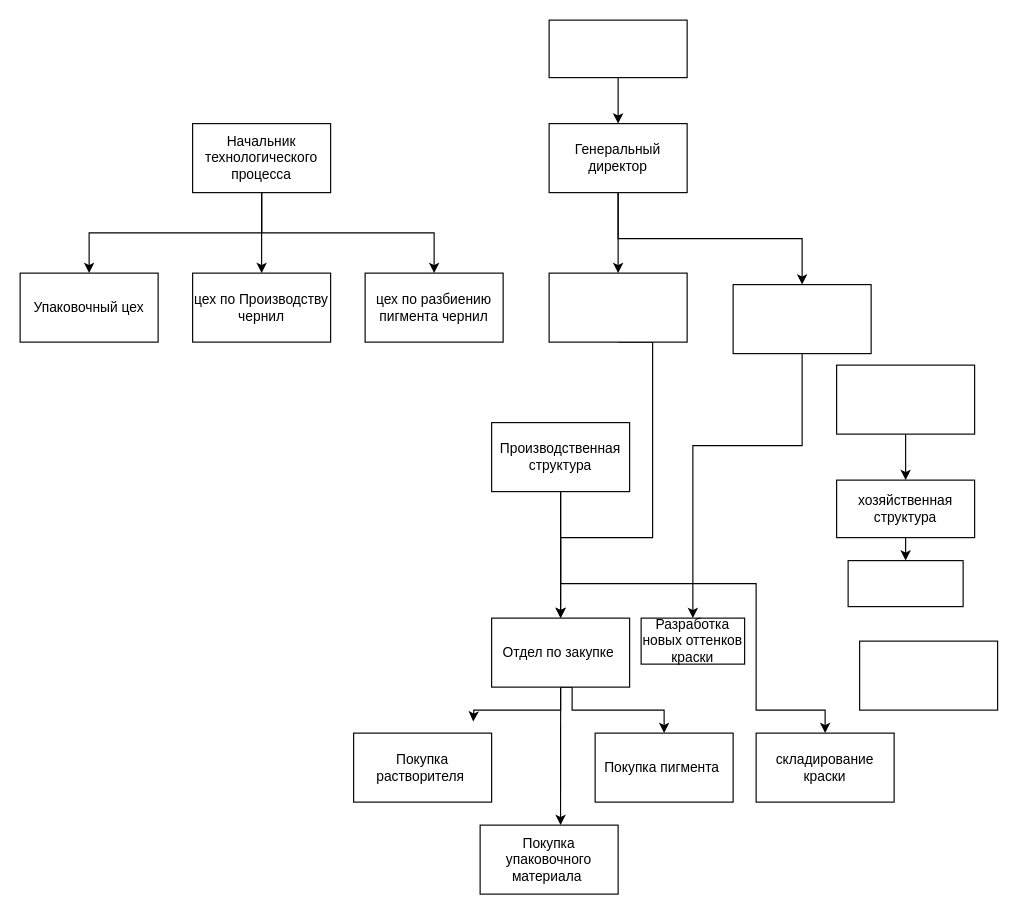
This 1018x914 diagram has some shape labels left out. The centre of each missing label's shape, as x and y in pixels:
Главный бухгалтер: (x=617, y=307)
Главный технолог: (x=801, y=318)
Завхоз: (x=905, y=399)
лаборатория по оценке качества: (x=928, y=675)
организационная струкутра: (x=617, y=48)
уборка помещений и оборудования: (x=905, y=583)
